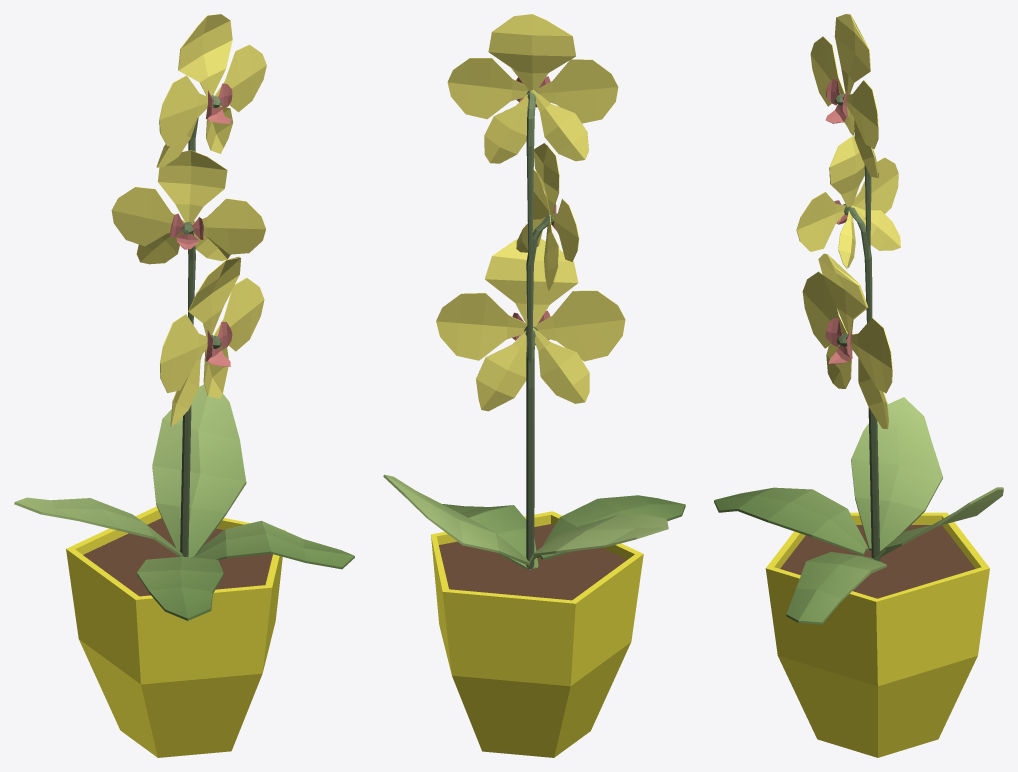
Rendered from Plant_10.fbx.
The picture shows the model from 3 angles, left to right: view 1: azimuth 30°, elevation 25°; view 2: azimuth 150°, elevation 25°; view 3: azimuth 270°, elevation 25°; orthographic projection. The views are drawn at different scales.
Visible parts, largest first — view 1: Plant_10; view 2: Plant_10; view 3: Plant_10.
Boxes of the visible parts, x1=… form: Plant_10: x1=14, y1=14, x2=354, y2=757; Plant_10: x1=383, y1=14, x2=685, y2=757; Plant_10: x1=714, y1=14, x2=1003, y2=757.
Size of the model in its own units: 19.83 by 47.77 by 17.4.
